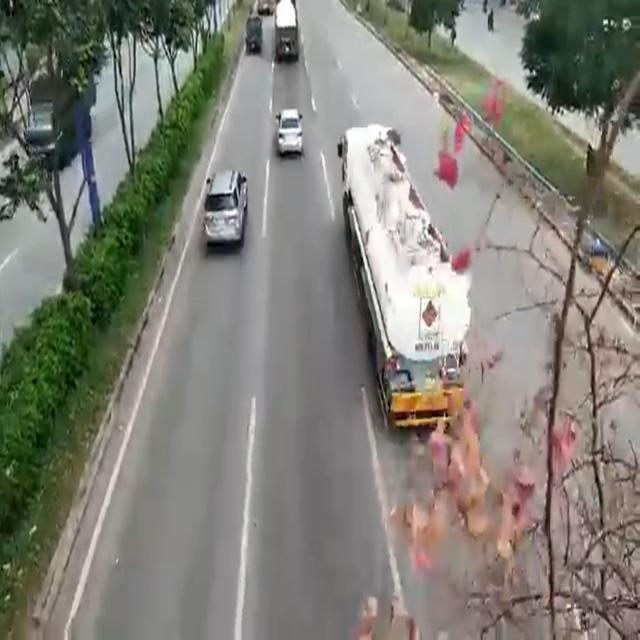car: (203, 164, 247, 250), (276, 108, 302, 158)
truck: (342, 123, 462, 422)
